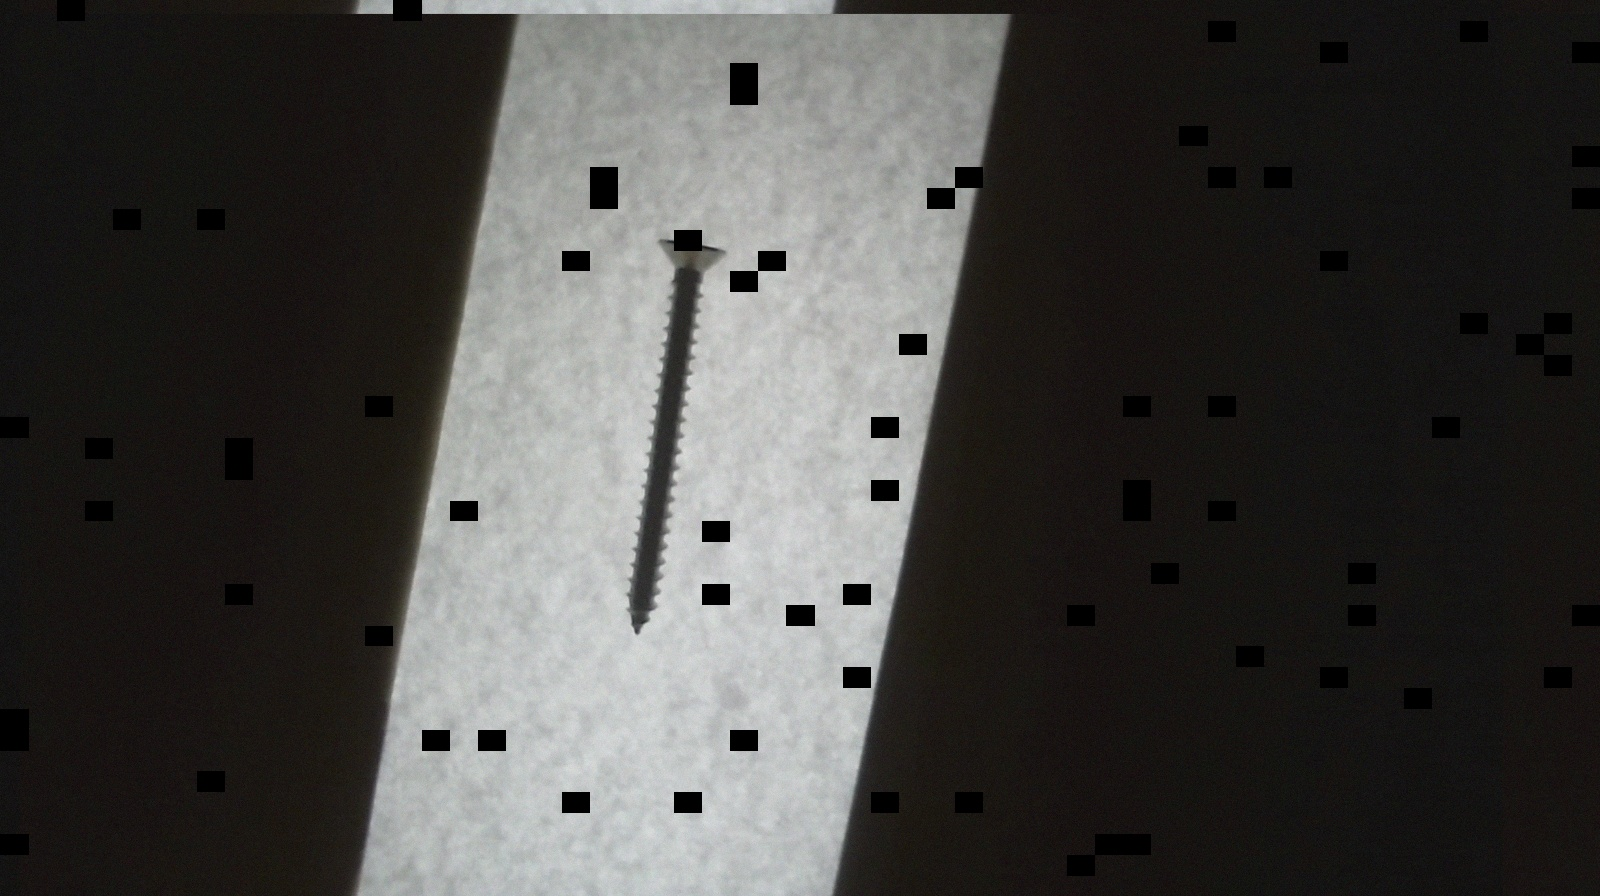S002: (596, 229, 747, 641)
